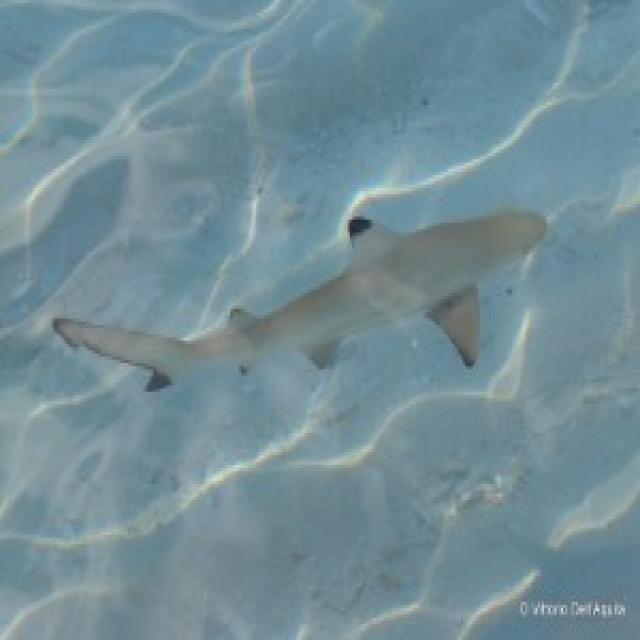Shark: (43, 190, 553, 391)
